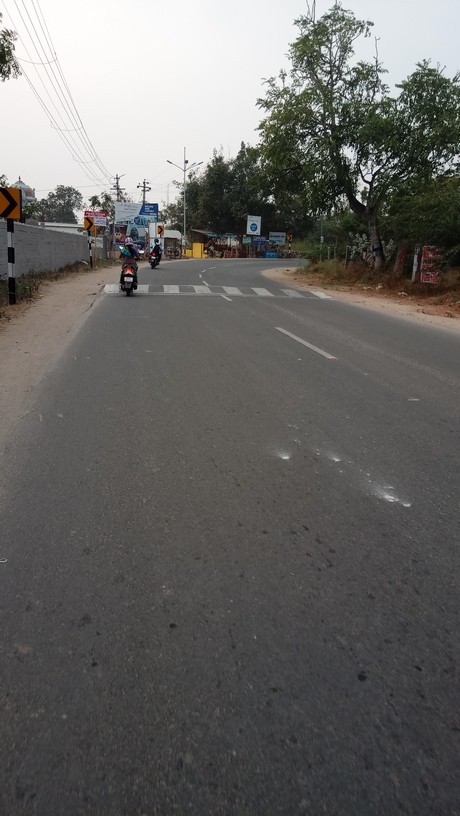bump: (100, 280, 330, 297)
